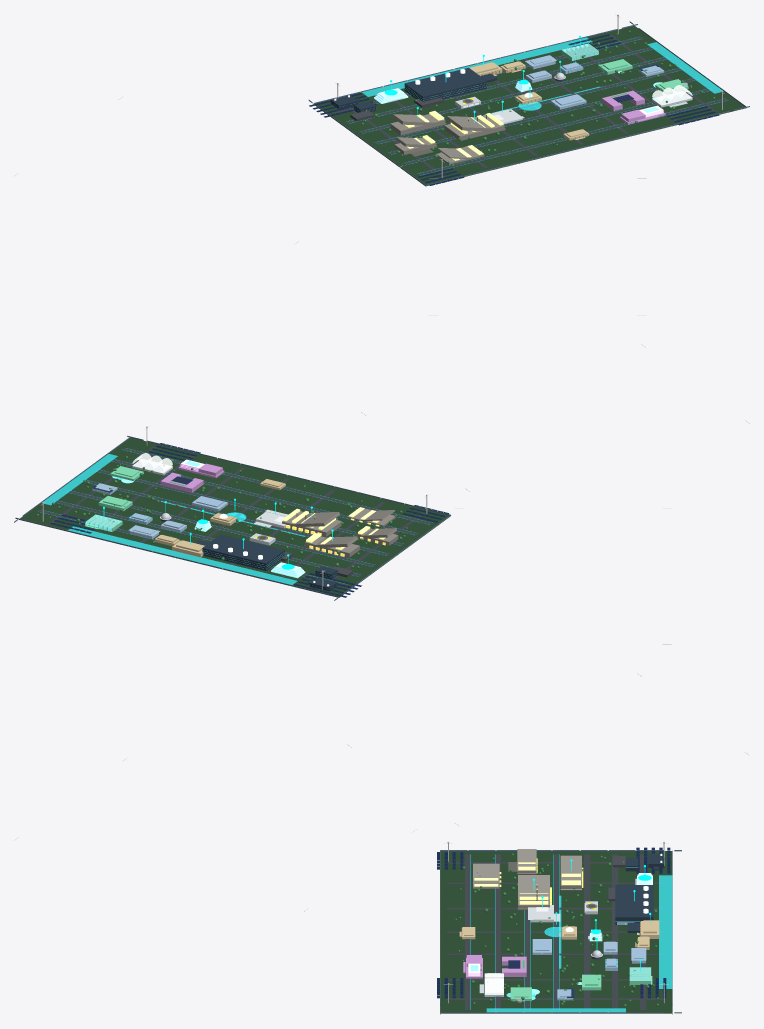
File: collective-ai-mega-campus.glb
3 views of the same model, one above another, from view 1: azimuth 30°, elevation 25°; view 2: azimuth 150°, elevation 25°; view 3: azimuth 270°, elevation 25° (orthographic). The views are drawn at different scales.
Visible parts, largest first — view 1: terrain, neural_block_data_center, foundry_manufacturing_district, north_river, animus_prime_robotics_factory, rd_h_80, rd_h_165, rd_h_332, rd_h_420, rd_h_500, east_river, vector_shift_logistics_hub (+4 smaller); view 2: terrain, neural_block_data_center, north_river, foundry_manufacturing_district, animus_prime_robotics_factory, rd_h_420, rd_h_80, rd_h_165, east_river, rd_h_332, construction_innovation_yard, nexus_transportation_hub (+5 smaller); view 3: terrain, north_river, neural_block_data_center, foundry_manufacturing_district, rd_h_420, rd_h_80, rd_h_332, animus_prime_robotics_factory, rd_h_165, construction_innovation_yard, rd_h_500, east_river (+1 smaller).
Part boxes in pixels (bbox=[...]): terrain: bbox=[313, 26, 746, 186]; neural_block_data_center: bbox=[404, 67, 497, 101]; foundry_manufacturing_district: bbox=[444, 113, 505, 140]; north_river: bbox=[362, 37, 592, 96]; animus_prime_robotics_factory: bbox=[390, 111, 446, 135]; rd_h_80: bbox=[417, 98, 727, 175]; rd_h_165: bbox=[403, 88, 712, 164]; rd_h_332: bbox=[375, 67, 684, 144]; rd_h_420: bbox=[359, 56, 669, 133]; rd_h_500: bbox=[346, 47, 656, 123]; east_river: bbox=[647, 42, 723, 93]; vector_shift_logistics_hub: bbox=[394, 135, 436, 156]; terrain: bbox=[19, 437, 450, 597]; neural_block_data_center: bbox=[195, 534, 284, 570]; north_river: bbox=[68, 526, 297, 584]; foundry_manufacturing_district: bbox=[282, 508, 341, 536]; animus_prime_robotics_factory: bbox=[304, 533, 359, 557]; rd_h_420: bbox=[65, 490, 374, 566]; rd_h_80: bbox=[122, 448, 431, 524]; rd_h_165: bbox=[109, 458, 417, 535]; east_river: bbox=[42, 454, 117, 505]; rd_h_332: bbox=[80, 479, 389, 555]; construction_innovation_yard: bbox=[347, 507, 396, 526]; nexus_transportation_hub: bbox=[132, 453, 172, 475]; terrain: bbox=[440, 851, 672, 1013]; north_river: bbox=[659, 875, 672, 988]; neural_block_data_center: bbox=[615, 885, 653, 932]; foundry_manufacturing_district: bbox=[518, 875, 551, 910]; rd_h_420: bbox=[584, 854, 590, 1009]; rd_h_80: bbox=[465, 854, 471, 1009]; rd_h_332: bbox=[553, 854, 558, 1009]; animus_prime_robotics_factory: bbox=[560, 855, 583, 890]; rd_h_165: bbox=[494, 854, 500, 1009]; construction_innovation_yard: bbox=[473, 863, 501, 888]; rd_h_500: bbox=[612, 854, 618, 1009]; east_river: bbox=[486, 1008, 625, 1012].
Bounding box in the file's own units: 2187 × 73.56 × 2102.
